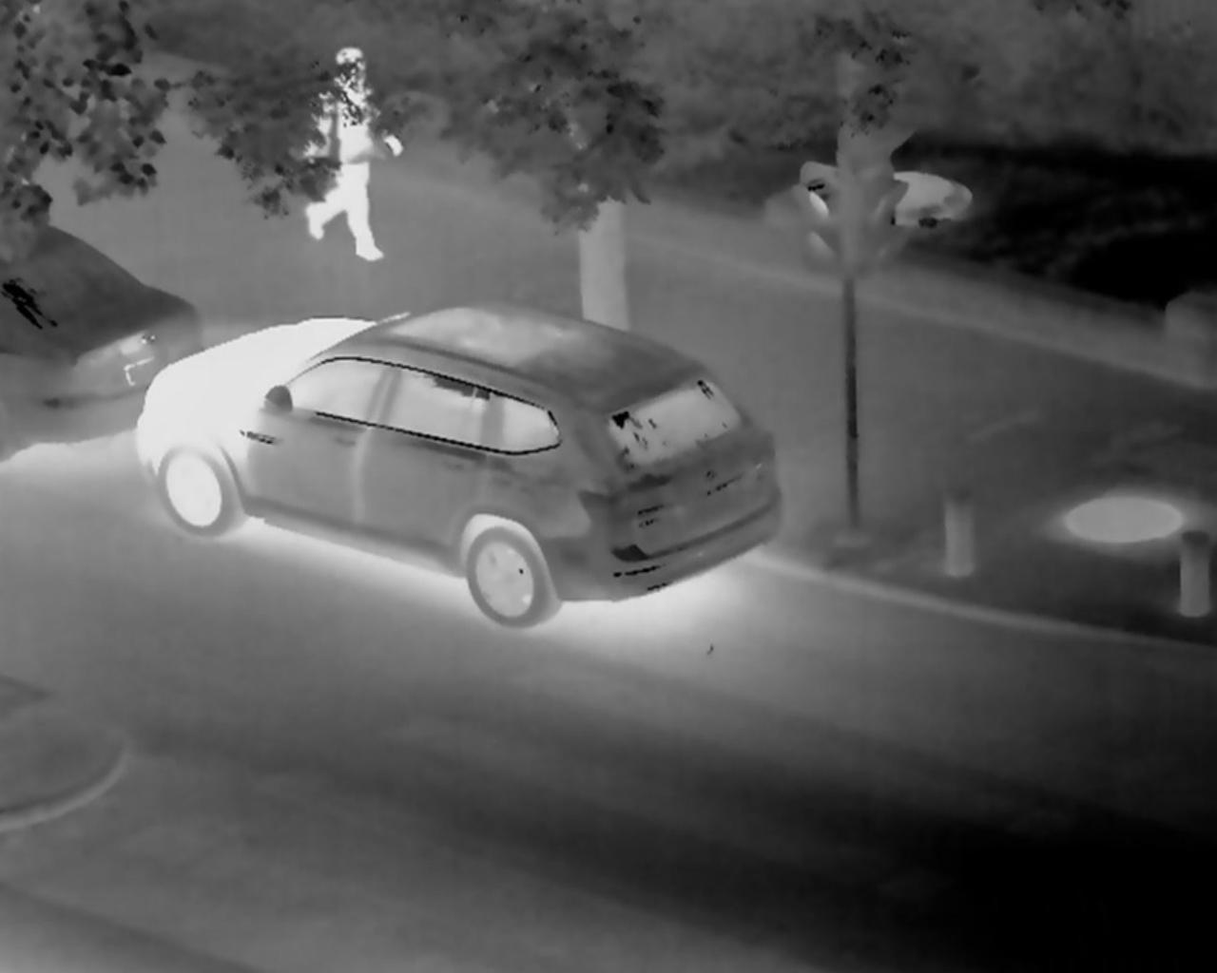person: (276, 52, 415, 272)
